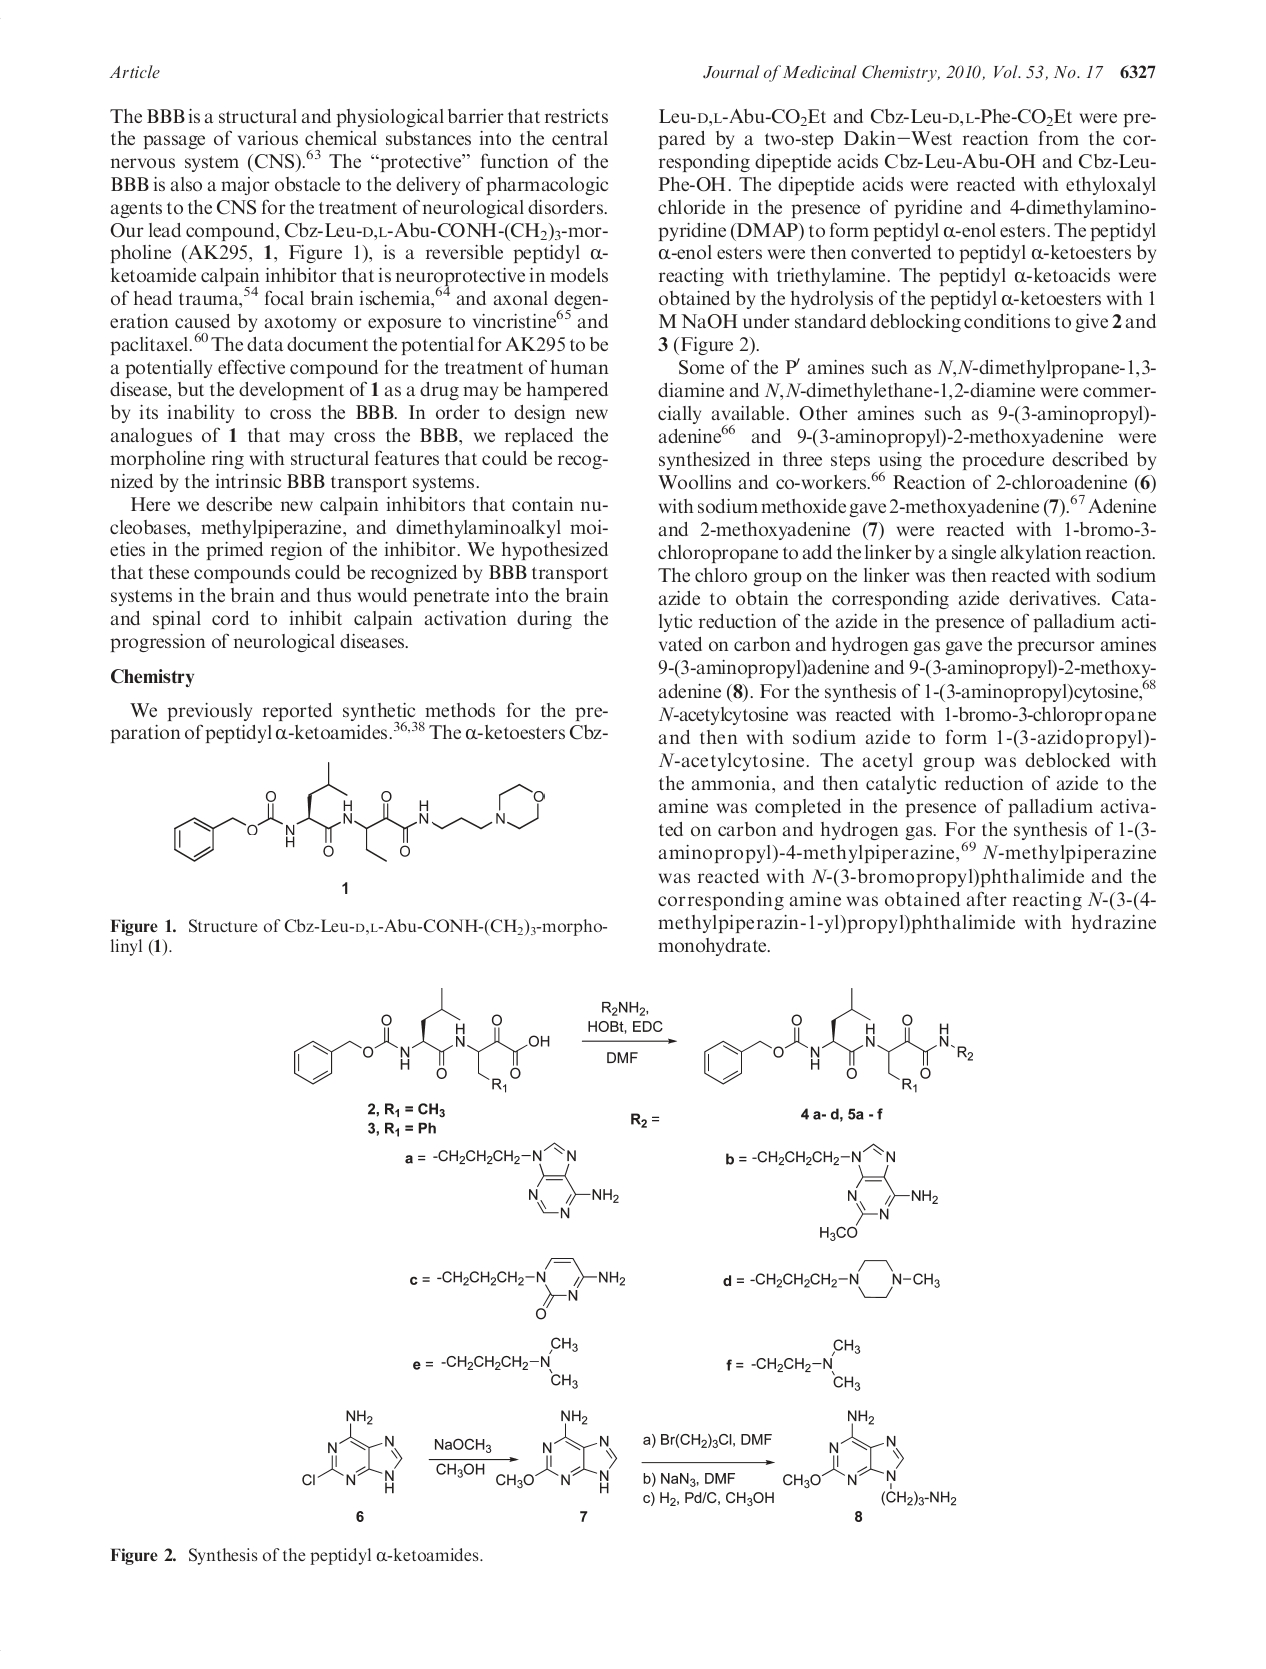exist_molecular: (172, 759, 545, 862), (290, 985, 553, 1094), (701, 987, 976, 1087), (723, 1140, 942, 1243), (781, 1408, 957, 1507), (430, 1138, 622, 1221), (432, 1254, 628, 1322), (495, 1408, 618, 1495), (302, 1408, 404, 1496), (747, 1258, 942, 1302), (439, 1334, 580, 1391), (747, 1338, 863, 1392)
